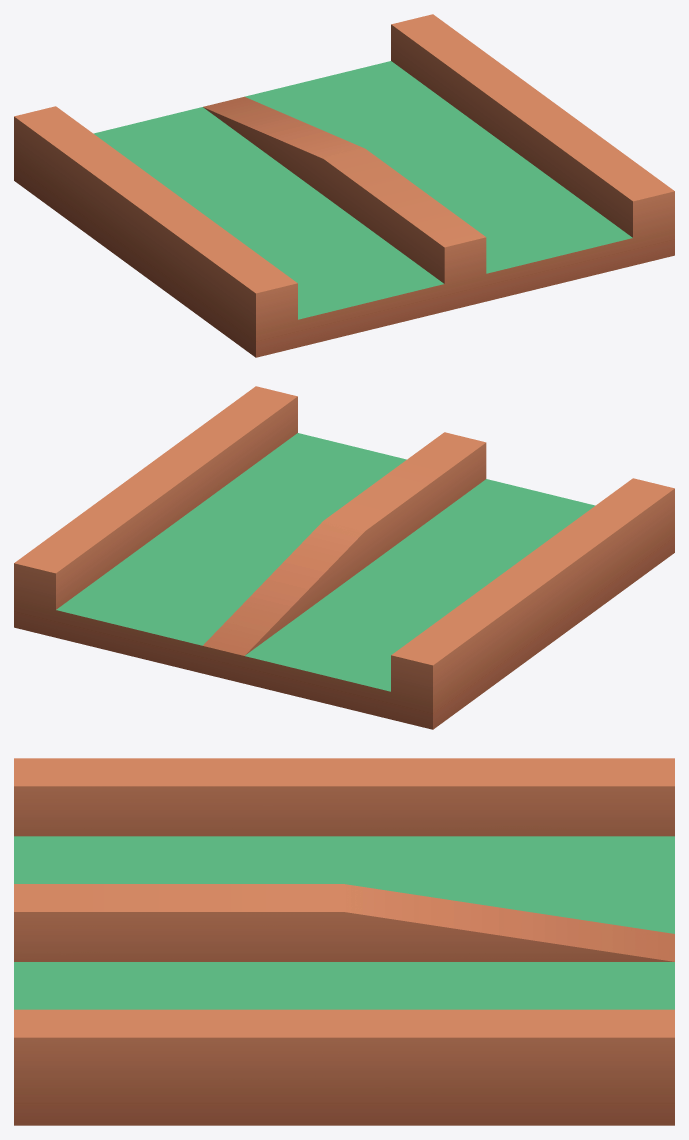
Rendered from split-start.glb.
3 views of the same model, one above another, from view 1: azimuth 30°, elevation 25°; view 2: azimuth 150°, elevation 25°; view 3: azimuth 270°, elevation 25° (orthographic). The views are drawn at different scales.
Parts seen in each view (by area): view 1: split-start; view 2: split-start; view 3: split-start.
Part boxes in pixels (box(x1,y1,x2,y2)): split-start: box(14, 14, 674, 357); split-start: box(14, 386, 674, 729); split-start: box(14, 758, 674, 1125).
Size of the model in its own units: 0.9999 by 0.1467 by 0.9999.
Materials: 1 (1 with a texture image).
